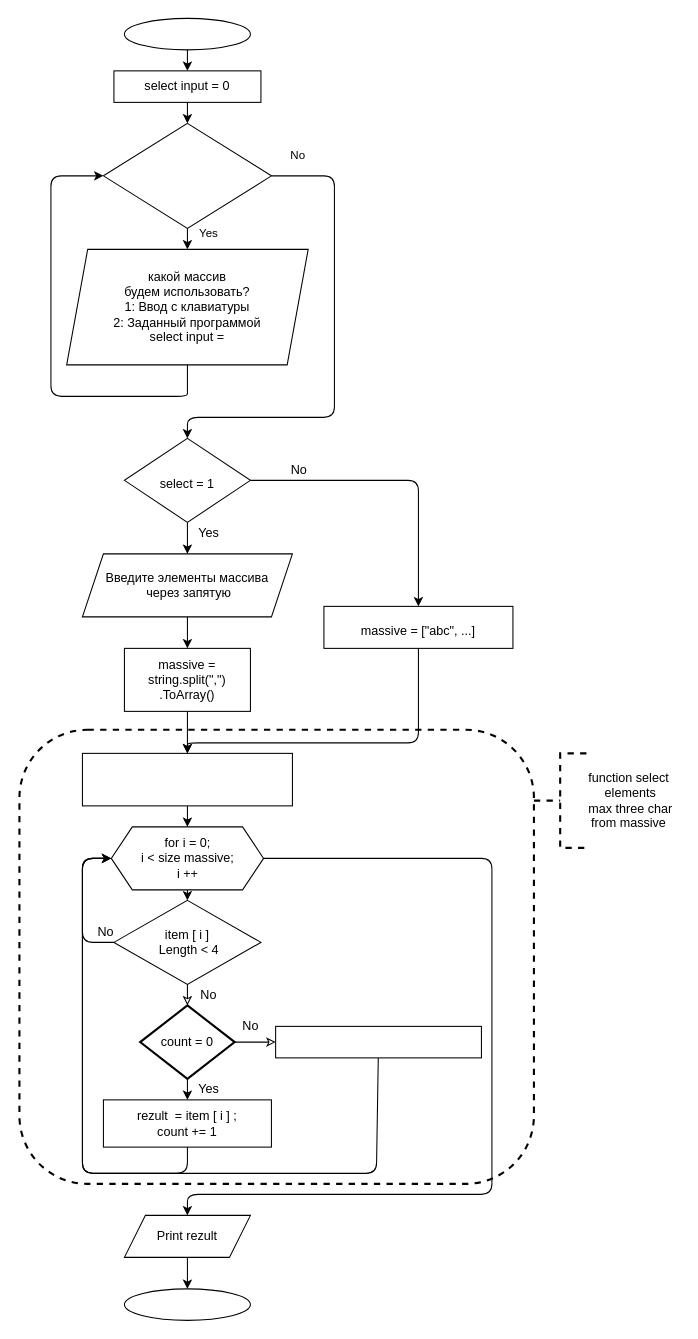
This 698x1339 diagram has some shape labels left out. The centre of each missing label's shape, as x and y in pixels:
End: point 186,1304
rezult += "," + item [ i ]: point 378,1041
rezult = StringEmpty count = 0: point 186,779
Start: point 186,33
while select != 1 | 2: point 186,175
